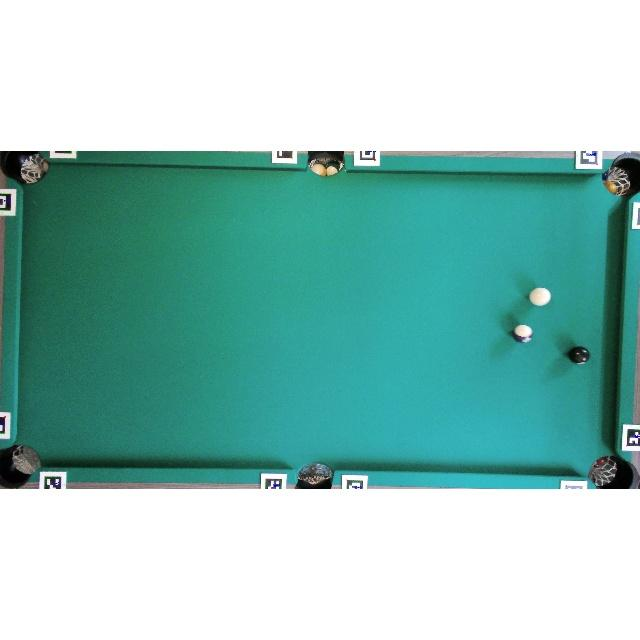cue ball: (528, 286, 552, 307)
other: (511, 323, 533, 344), (567, 346, 591, 365)
